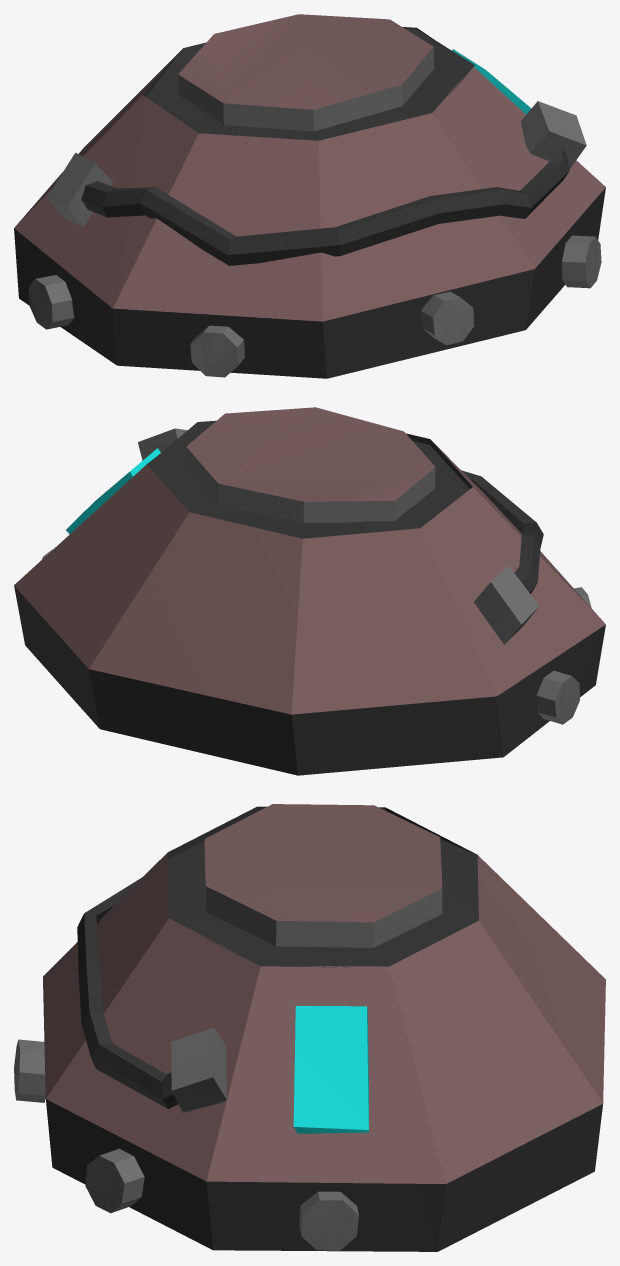
File: crio apex.fbx
The picture shows the model from 3 angles, top to bottom: view 1: azimuth 30°, elevation 25°; view 2: azimuth 150°, elevation 25°; view 3: azimuth 270°, elevation 25°; orthographic projection. The views are drawn at different scales.
Parts seen in each view (by area): view 1: PM3D_Circle3D3_273; view 2: PM3D_Circle3D3_273; view 3: PM3D_Circle3D3_273.
Part boxes in pixels (bbox=[...]): PM3D_Circle3D3_273: bbox=[14, 14, 605, 378]; PM3D_Circle3D3_273: bbox=[14, 407, 605, 775]; PM3D_Circle3D3_273: bbox=[14, 804, 605, 1251].
Size of the model in its own units: 126 by 49.67 by 104.
